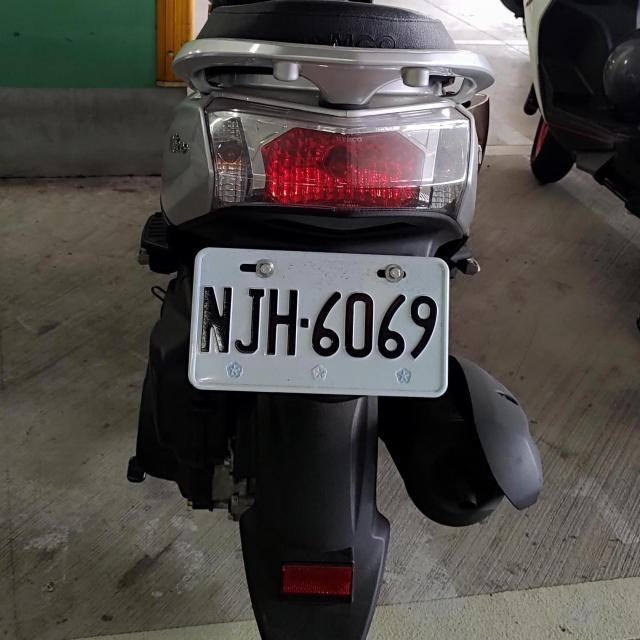W: (187, 246, 450, 397)
